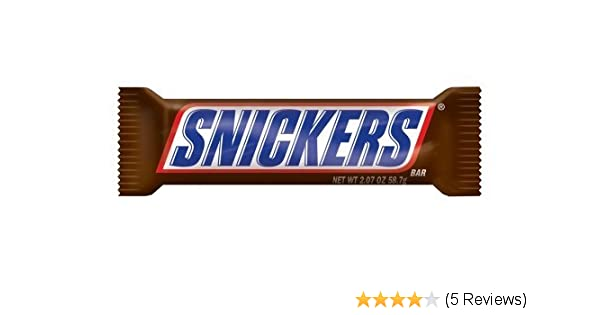snickers: (109, 78, 486, 205)
